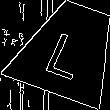L_N: (42, 21, 96, 79)
